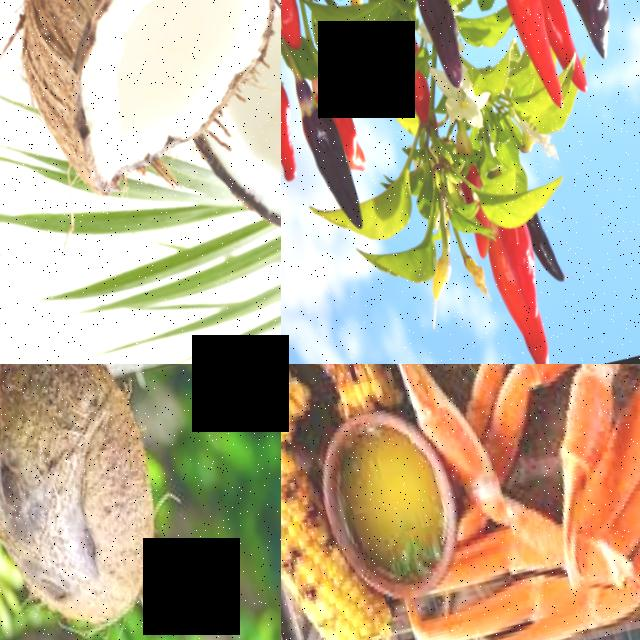chilli: (474, 215, 564, 364), (481, 0, 570, 112), (526, 0, 589, 101), (281, 36, 310, 191)
coconut: (0, 0, 281, 195), (0, 364, 185, 640)
crab: (451, 364, 640, 640)
